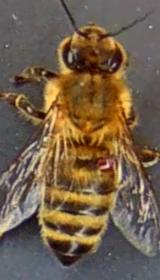varroa_mite: (88, 144, 124, 182)
